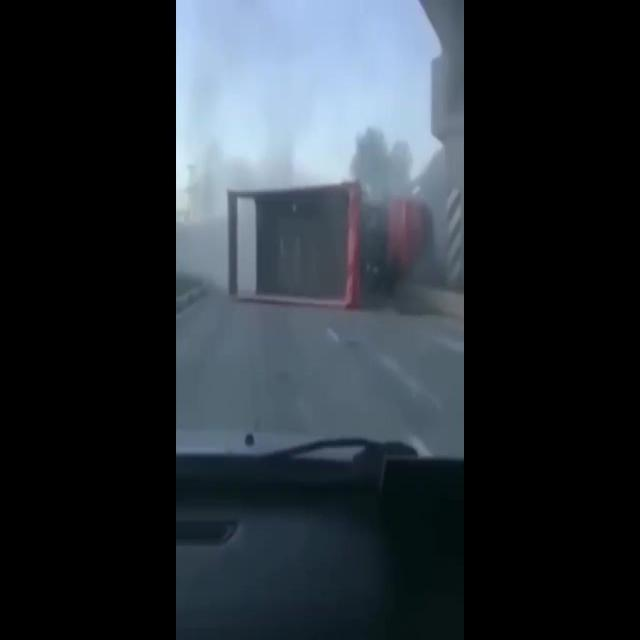severe: (222, 169, 434, 319)
